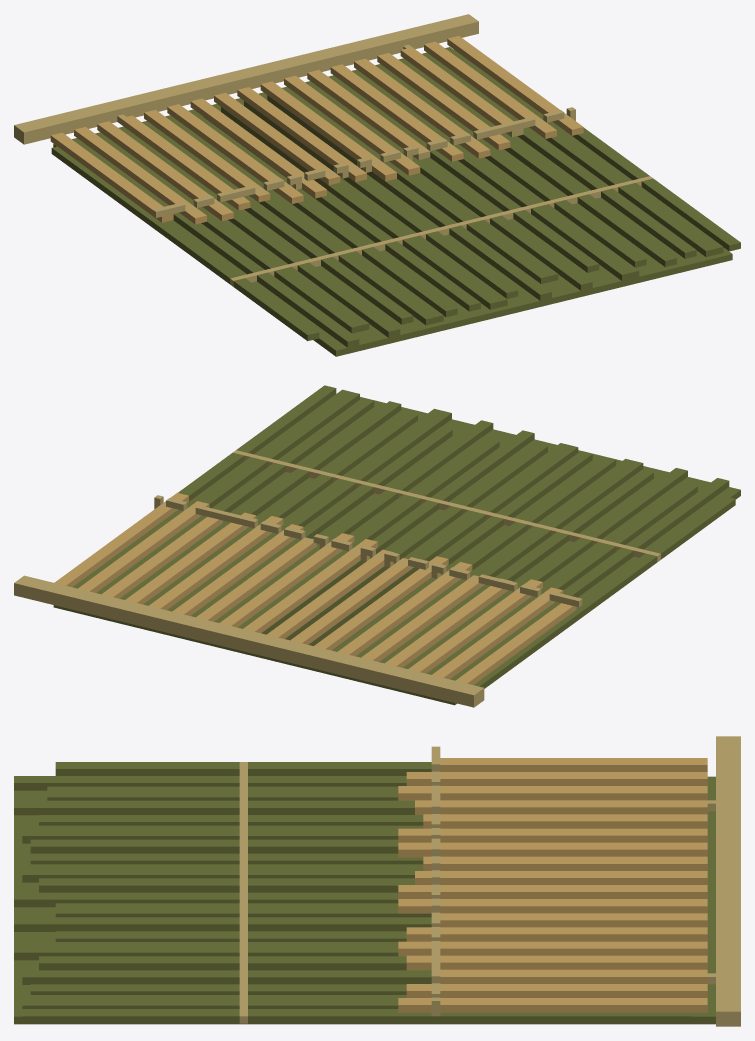
File: grass_cloak.glb
The picture shows the model from 3 angles, top to bottom: view 1: azimuth 30°, elevation 25°; view 2: azimuth 150°, elevation 25°; view 3: azimuth 270°, elevation 25°; orthographic projection. The views are drawn at different scales.
Parts seen in each view (by area): view 1: grass_cloak:compound; view 2: grass_cloak:compound; view 3: grass_cloak:compound.
Part boxes in pixels (left/top/right/bottom): grass_cloak:compound: left=14, top=14, right=740, bottom=356; grass_cloak:compound: left=14, top=385, right=740, bottom=707; grass_cloak:compound: left=14, top=736, right=740, bottom=1026.
Bounding box in the file's own units: 0.624 × 0.032 × 0.696.
